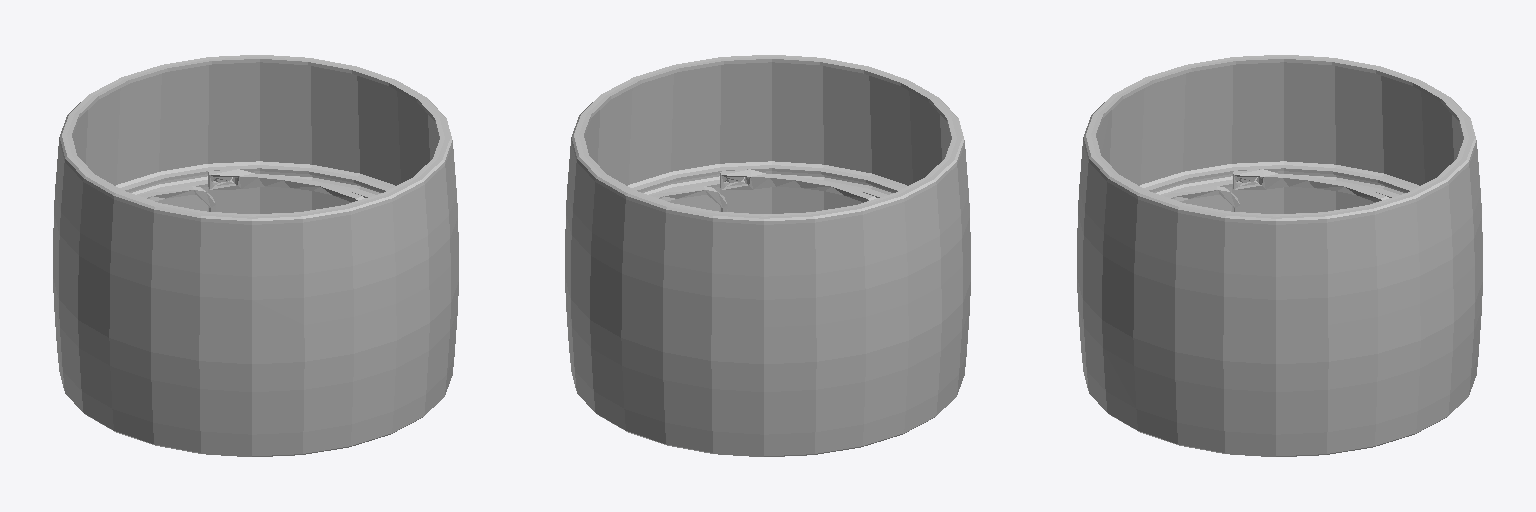
Rendered from Wheel_Col_Left.obj.
3 views of the same model, side by side, from view 1: azimuth 30°, elevation 25°; view 2: azimuth 150°, elevation 25°; view 3: azimuth 270°, elevation 25° (orthographic).
Parts seen in each view (by area): view 1: Wheel_LeftFront.obj; view 2: Wheel_LeftFront.obj; view 3: Wheel_LeftFront.obj.
Part boxes in pixels (left/top/right/bottom): Wheel_LeftFront.obj: left=53, top=55, right=458, bottom=456; Wheel_LeftFront.obj: left=565, top=55, right=970, bottom=456; Wheel_LeftFront.obj: left=1077, top=55, right=1482, bottom=456.
Size of the model in its own units: 0.5098 by 0.3306 by 0.5098.